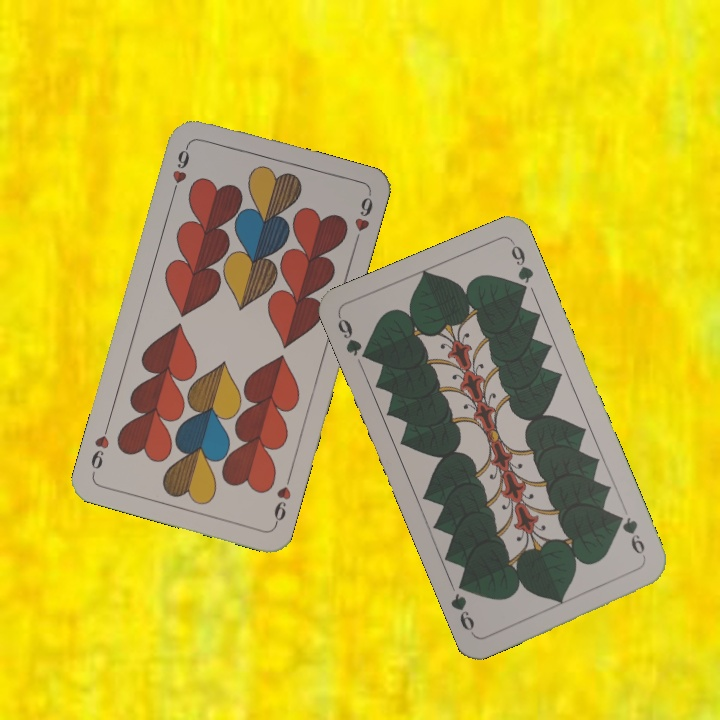G9: (333, 312, 374, 364), (612, 510, 649, 564)
H9: (269, 471, 294, 529), (168, 140, 192, 198)
